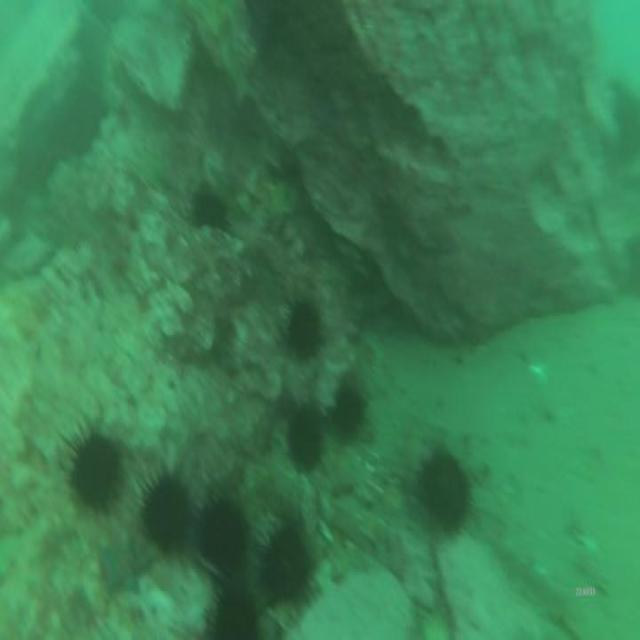echinus: (56, 414, 124, 520), (257, 514, 322, 613), (413, 434, 472, 540), (135, 460, 192, 564), (196, 488, 250, 578), (198, 575, 262, 640), (284, 395, 328, 480), (281, 289, 325, 367), (329, 374, 370, 446), (184, 180, 229, 240)
starfish: (95, 531, 150, 600)
